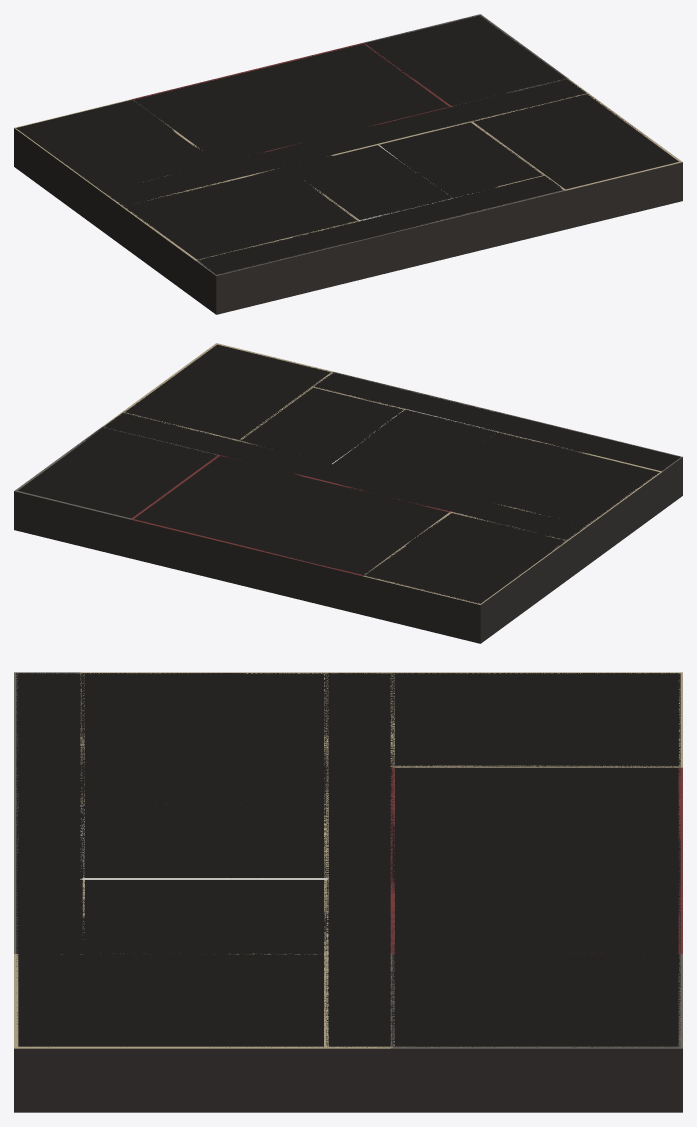
Rendered from predio.glb.
3 views of the same model, one above another, from view 1: azimuth 30°, elevation 25°; view 2: azimuth 150°, elevation 25°; view 3: azimuth 270°, elevation 25° (orthographic). The views are drawn at different scales.
Visible parts, largest first — view 1: Teto_Salao, Parede_Externa_Sul, Teto_Fliperama, Teto_Recepcao, Teto_Cozinha, Teto_Deposito, Teto_Corredor_Principal, Parede_Externa_Oeste, Teto_Corredor_Fundos, Teto_Banheiros, Teto_Sala_Seguranca, Parede_Externa_Norte (+3 smaller); view 2: Teto_Salao, Parede_Externa_Norte, Teto_Fliperama, Teto_Recepcao, Teto_Cozinha, Teto_Deposito, Teto_Corredor_Principal, Parede_Externa_Oeste, Teto_Corredor_Fundos, Teto_Banheiros, Teto_Sala_Seguranca, Parede_Externa_Sul (+2 smaller); view 3: Teto_Salao, Parede_Externa_Leste, Teto_Fliperama, Teto_Recepcao, Teto_Cozinha, Teto_Deposito, Teto_Corredor_Principal, Teto_Corredor_Fundos, Teto_Banheiros, Teto_Sala_Seguranca, Parede_Corredor_Principal_Sul, Parede_Corredor_Principal_Norte (+4 smaller).
Part boxes in pixels (<box>): Teto_Salao: <box>133,43,448,163</box>; Parede_Externa_Sul: <box>215,162,682,314</box>; Teto_Fliperama: <box>123,167,358,259</box>; Teto_Recepcao: <box>473,94,678,189</box>; Teto_Cozinha: <box>16,100,218,191</box>; Teto_Deposito: <box>364,15,566,106</box>; Teto_Corredor_Principal: <box>103,79,586,206</box>; Parede_Externa_Oeste: <box>14,127,218,314</box>; Teto_Corredor_Fundos: <box>198,175,562,274</box>; Teto_Banheiros: <box>286,145,451,219</box>; Teto_Sala_Seguranca: <box>379,122,543,198</box>; Parede_Externa_Norte: <box>14,14,480,167</box>; Teto_Salao: <box>134,456,448,575</box>; Parede_Externa_Norte: <box>14,491,481,643</box>; Teto_Fliperama: <box>425,432,659,525</box>; Teto_Recepcao: <box>124,344,330,440</box>; Teto_Cozinha: <box>364,512,566,603</box>; Teto_Deposito: <box>18,427,217,518</box>; Teto_Corredor_Principal: <box>103,412,586,540</box>; Parede_Externa_Oeste: <box>478,456,682,643</box>; Teto_Corredor_Fundos: <box>313,372,680,471</box>; Teto_Banheiros: <box>333,409,497,485</box>; Teto_Sala_Seguranca: <box>240,387,404,463</box>; Parede_Externa_Sul: <box>216,343,680,456</box>; Teto_Salao: <box>392,767,680,953</box>; Parede_Externa_Leste: <box>14,1046,682,1112</box>; Teto_Fliperama: <box>82,673,326,804</box>; Teto_Recepcao: <box>16,954,326,1047</box>; Teto_Cozinha: <box>392,673,680,766</box>; Teto_Deposito: <box>392,954,680,1047</box>; Teto_Corredor_Principal: <box>326,673,392,1047</box>; Teto_Corredor_Fundos: <box>16,673,82,953</box>; Teto_Banheiros: <box>82,804,326,877</box>; Teto_Sala_Seguranca: <box>82,880,326,953</box>; Parede_Corredor_Principal_Sul: <box>324,672,328,1112</box>; Parede_Corredor_Principal_Norte: <box>390,672,394,1112</box>.
Size of what is drawn, in the model's own units: 40.2 by 3.2 by 30.2.
